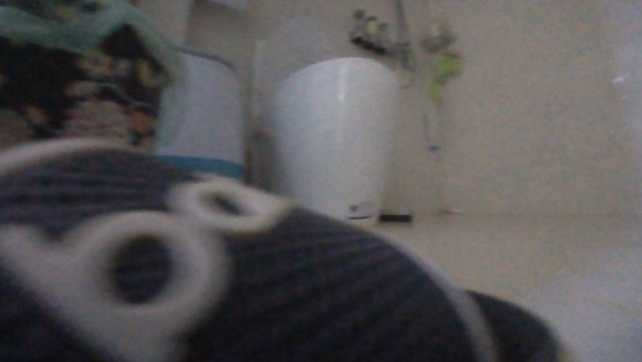toilet: (248, 11, 395, 226)
